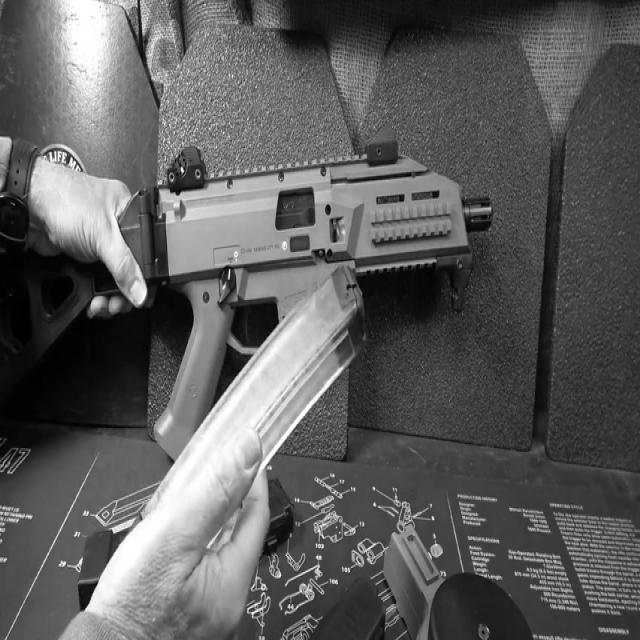Sub-machine-gun: (0, 88, 538, 568)
